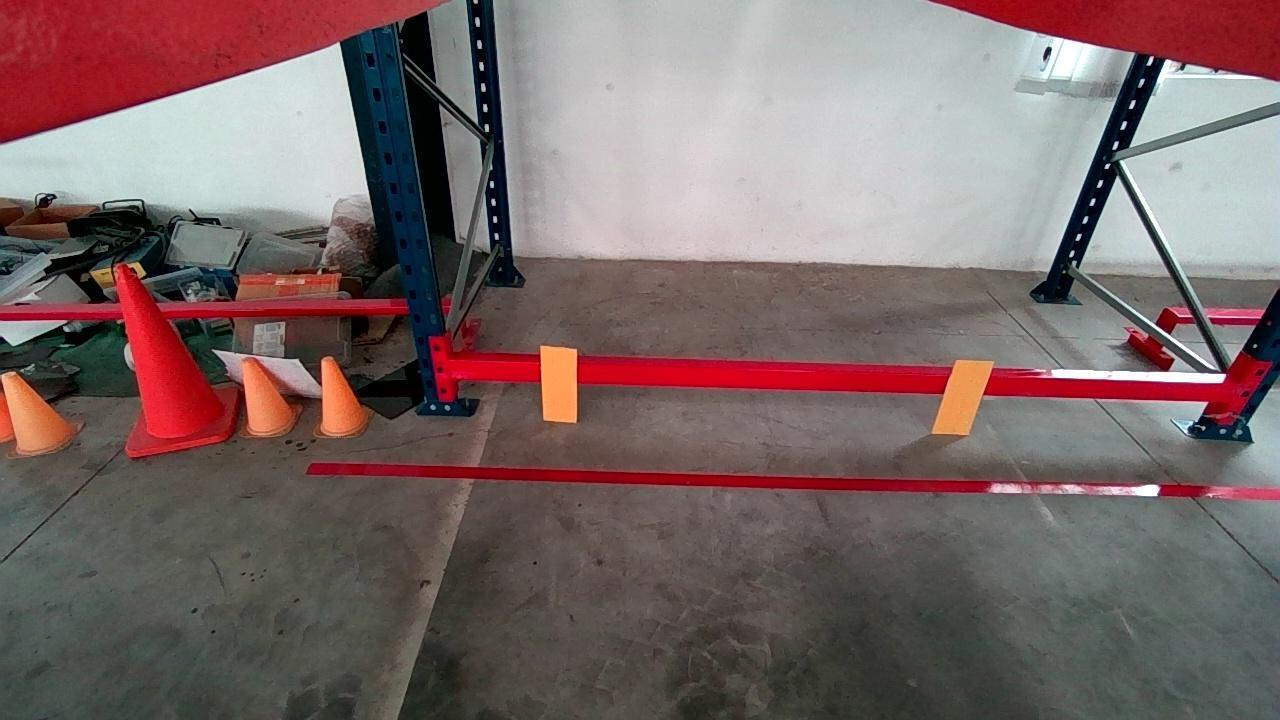h_rack: (447, 357, 1234, 404)
orange_strip: (931, 360, 994, 434), (539, 345, 578, 421)
red_line: (306, 462, 1280, 502)
